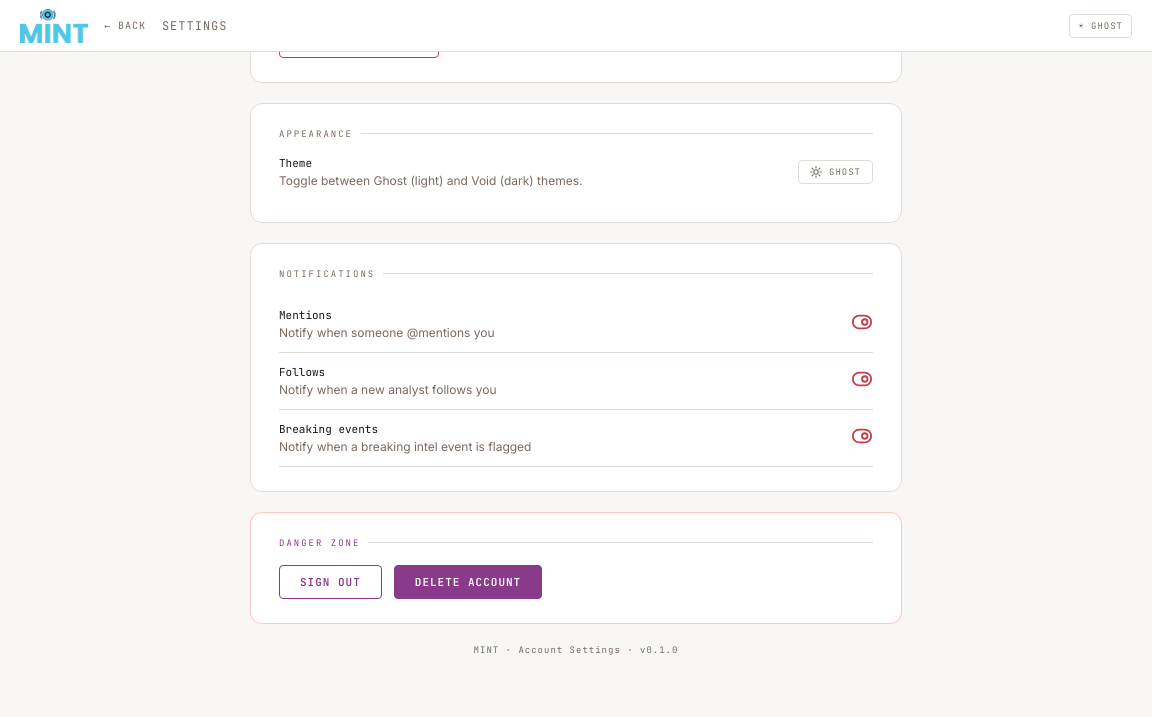
Test case: SettingsPage › clicking DELETE ACCOUNT reveals confirmation panel
This screenshot has width=1152, height=717.
(page scrolled)
What coordinates should you click on to do the following:
click the button "DELETE ACCOUNT"
I would click on:
 (468, 582)
Its box is [394, 565, 542, 599].
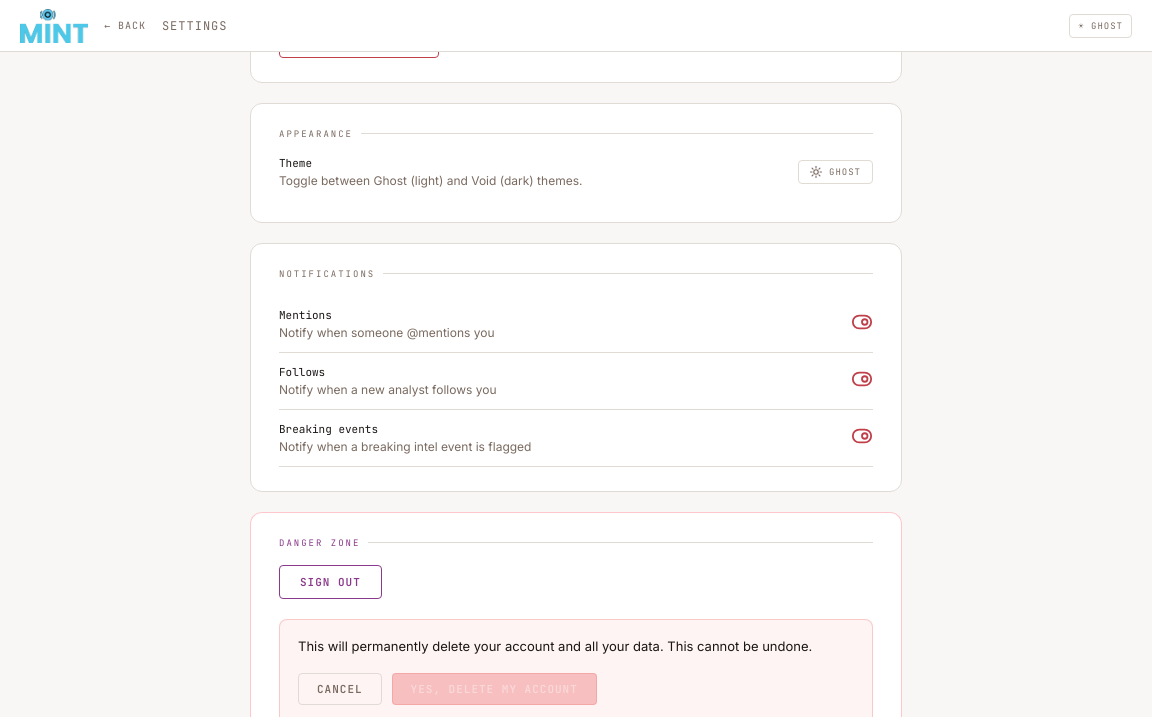
Result: the text "This will permanently delete your account" is shown at [298, 638, 812, 654]
